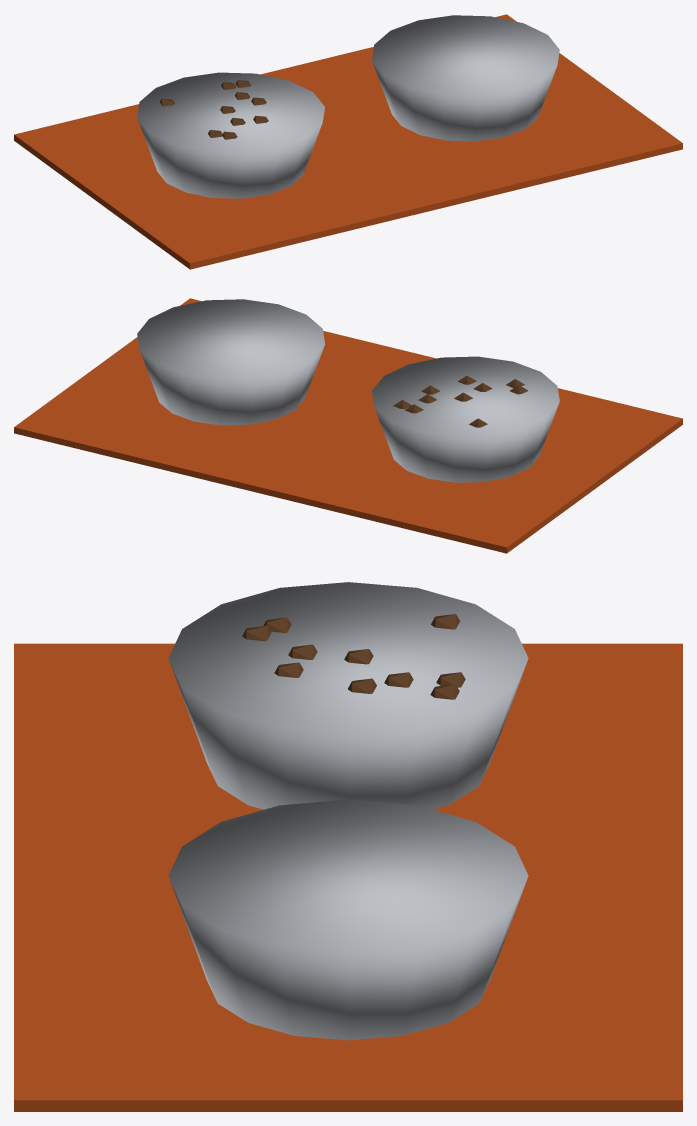
The model's file is Deco_PetBowls.gltf.
The picture shows the model from 3 angles, top to bottom: view 1: azimuth 30°, elevation 25°; view 2: azimuth 150°, elevation 25°; view 3: azimuth 270°, elevation 25°; orthographic projection. The views are drawn at different scales.
Visible parts, largest first — view 1: Deco_PetBowls; view 2: Deco_PetBowls; view 3: Deco_PetBowls.
Part boxes in pixels (x1,y1,x2,y2): Deco_PetBowls: [14, 14, 682, 269]; Deco_PetBowls: [14, 298, 682, 553]; Deco_PetBowls: [14, 582, 682, 1111].
Bounding box in the file's own units: 0.42 × 0.0527 × 0.26.
